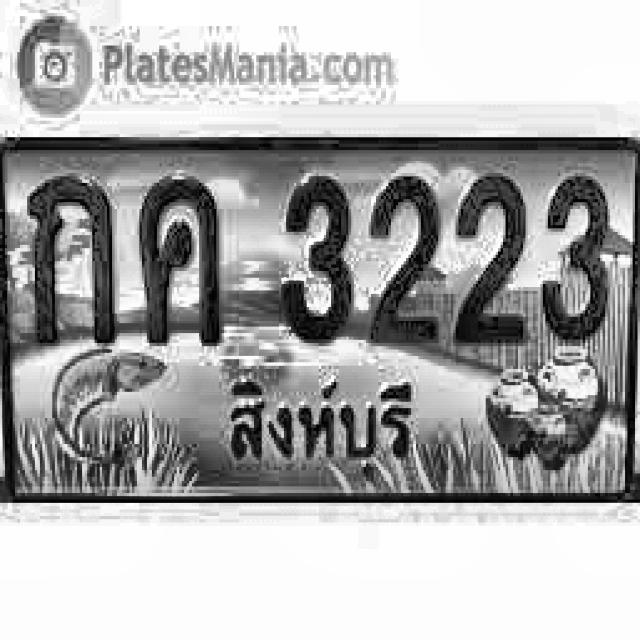license-plate: (0, 133, 640, 498)
